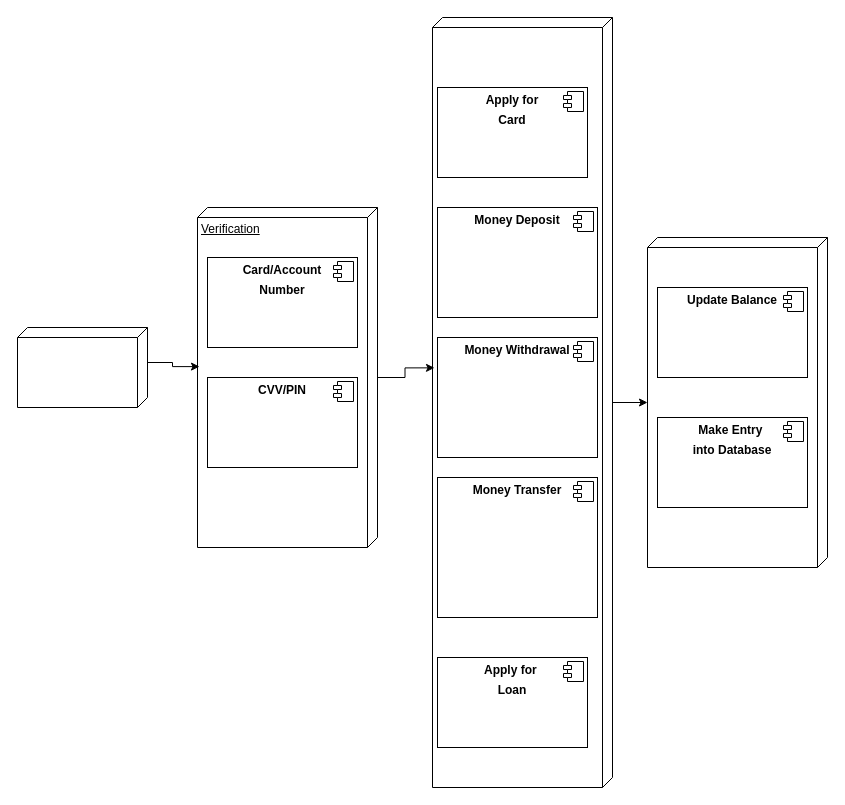
Some shapes in this 845 by 805 pixel diagram are drawn without their labels. The box of each missing label's shape, as (x1, y1, x2, y2) in pixels:
Actions: (432, 16, 612, 788)
Bank Database: (646, 236, 828, 568)
Customer: (16, 326, 148, 408)
